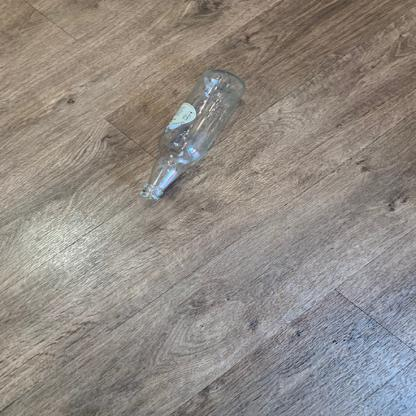trash: (139, 68, 250, 204)
